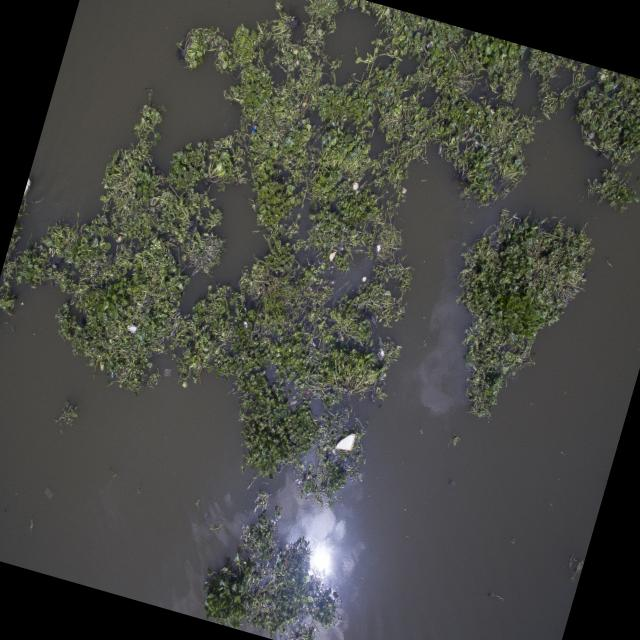Plastic: (333, 428, 357, 454), (326, 248, 338, 262), (125, 322, 137, 334), (374, 242, 384, 254), (352, 178, 361, 190)
